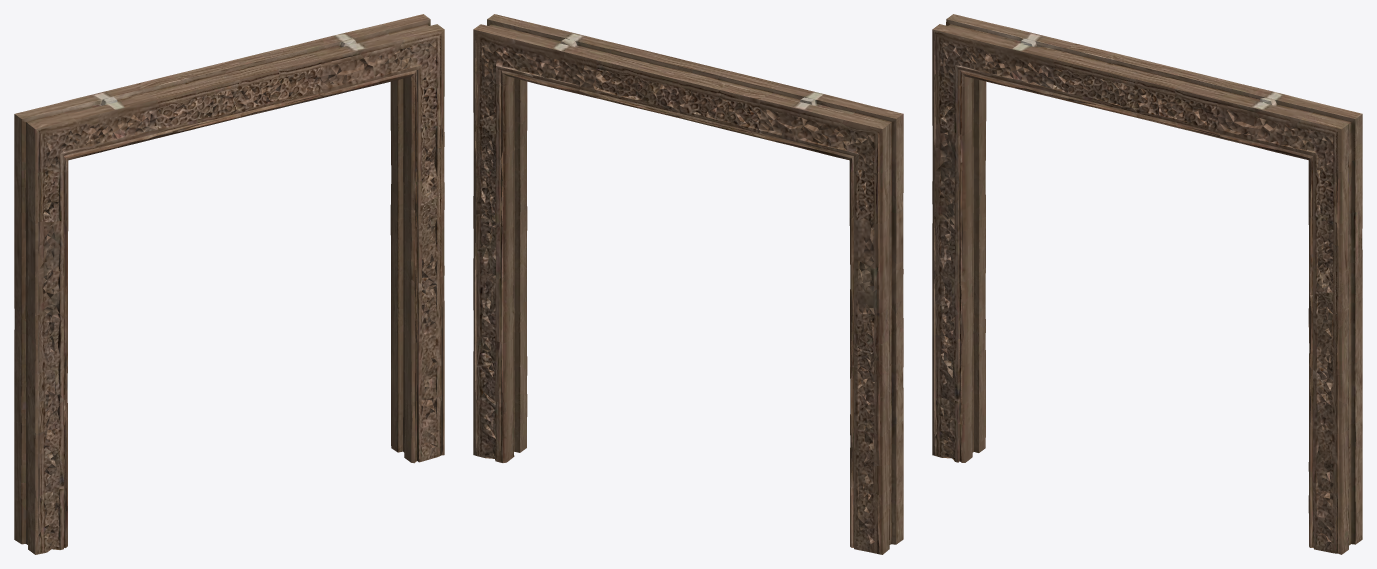
Rendered from SM_MenTou_2_a53dd0.glb.
3 renders of one model, left to right at view 1: azimuth 30°, elevation 25°; view 2: azimuth 150°, elevation 25°; view 3: azimuth 330°, elevation 25°, orthographic.
Visible parts, largest first — view 1: SM_MenTou_2; view 2: SM_MenTou_2; view 3: SM_MenTou_2.
Part boxes in pixels (bbox=[...]): SM_MenTou_2: bbox=[14, 14, 444, 554]; SM_MenTou_2: bbox=[473, 14, 903, 554]; SM_MenTou_2: bbox=[932, 14, 1362, 554].
Size of the model in its own units: 0.9776 by 0.9762 by 0.1023.
Materials: 1 (1 with a texture image).
